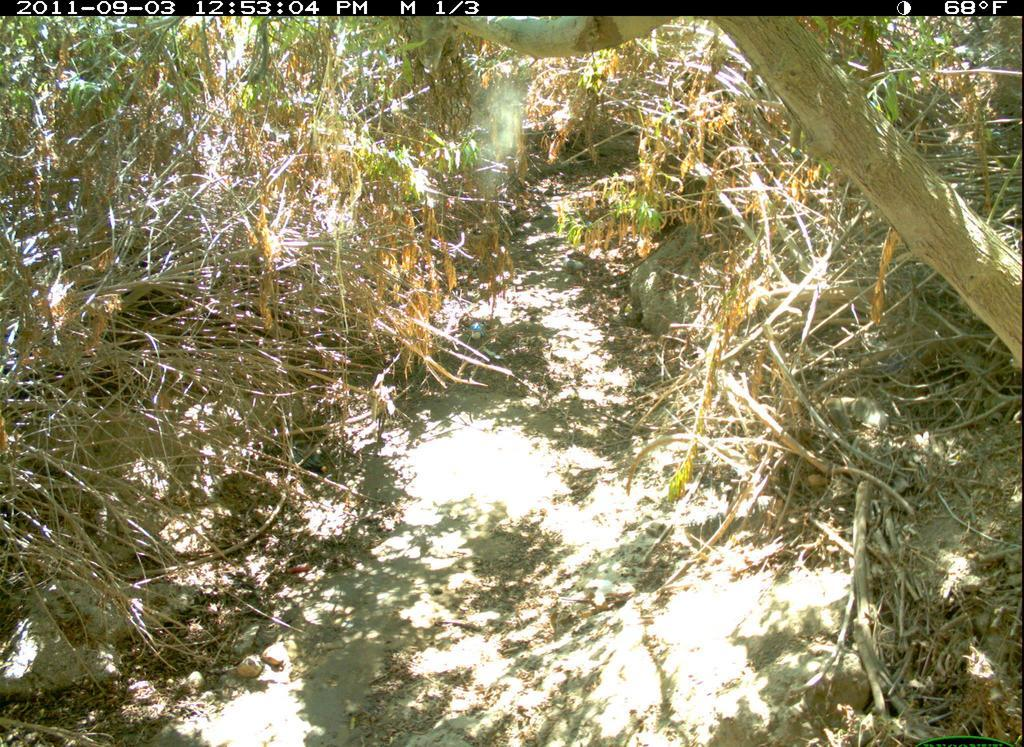squirrel: (823, 386, 897, 442)
